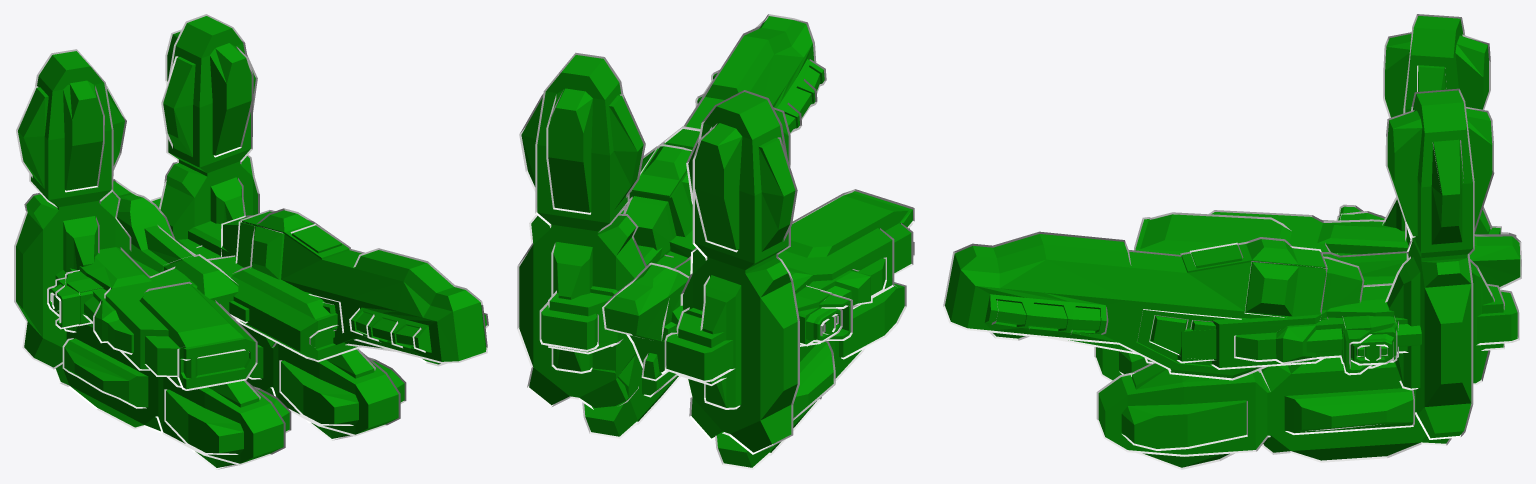
Rendered from ship13_green.glb.
3 renders of one model, left to right at view 1: azimuth 30°, elevation 25°; view 2: azimuth 150°, elevation 25°; view 3: azimuth 270°, elevation 25°, orthographic. The views are drawn at different scales.
Parts seen in each view (by area): view 1: ME_ship_IndexedFaceSet; view 2: ME_ship_IndexedFaceSet; view 3: ME_ship_IndexedFaceSet.
Boxes of the visible parts, x1=… form: ME_ship_IndexedFaceSet: x1=14, y1=14, x2=488, y2=469; ME_ship_IndexedFaceSet: x1=517, y1=14, x2=914, y2=469; ME_ship_IndexedFaceSet: x1=943, y1=14, x2=1521, y2=469.
Bounding box in the file's own units: 307 × 364 × 524.
